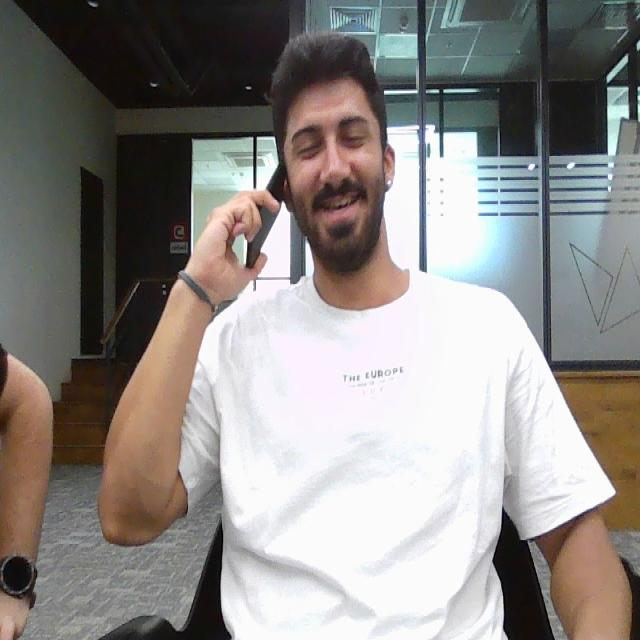phone: (239, 165, 289, 263)
